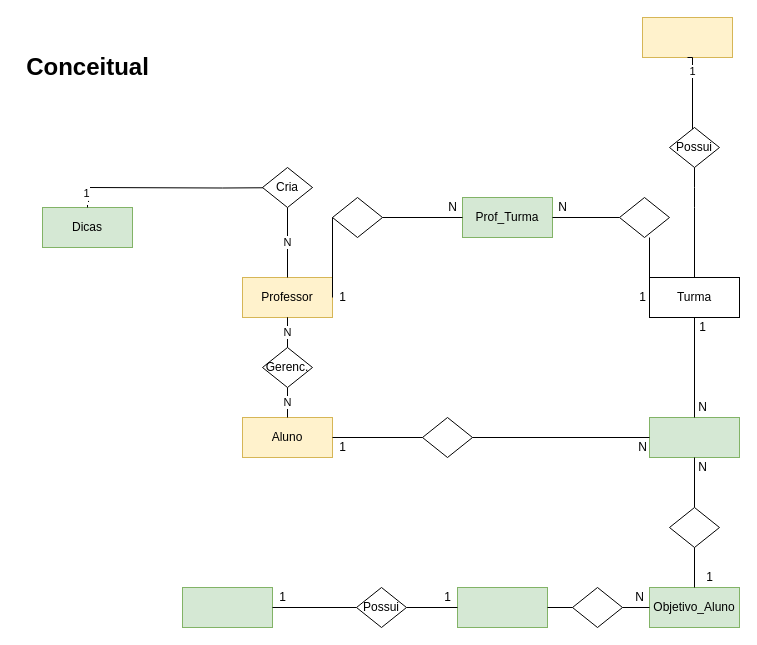
This 757x645 diagram has some shape labels left out. The box of each missing label's shape, as (x1, y1, x2, y2) in pixels:
Aluno_Turma: (648, 416, 740, 458)
Categoria: (182, 586, 272, 628)
Curso: (642, 16, 732, 58)
Objetivo: (456, 586, 548, 628)
Participa: (618, 196, 670, 238)
